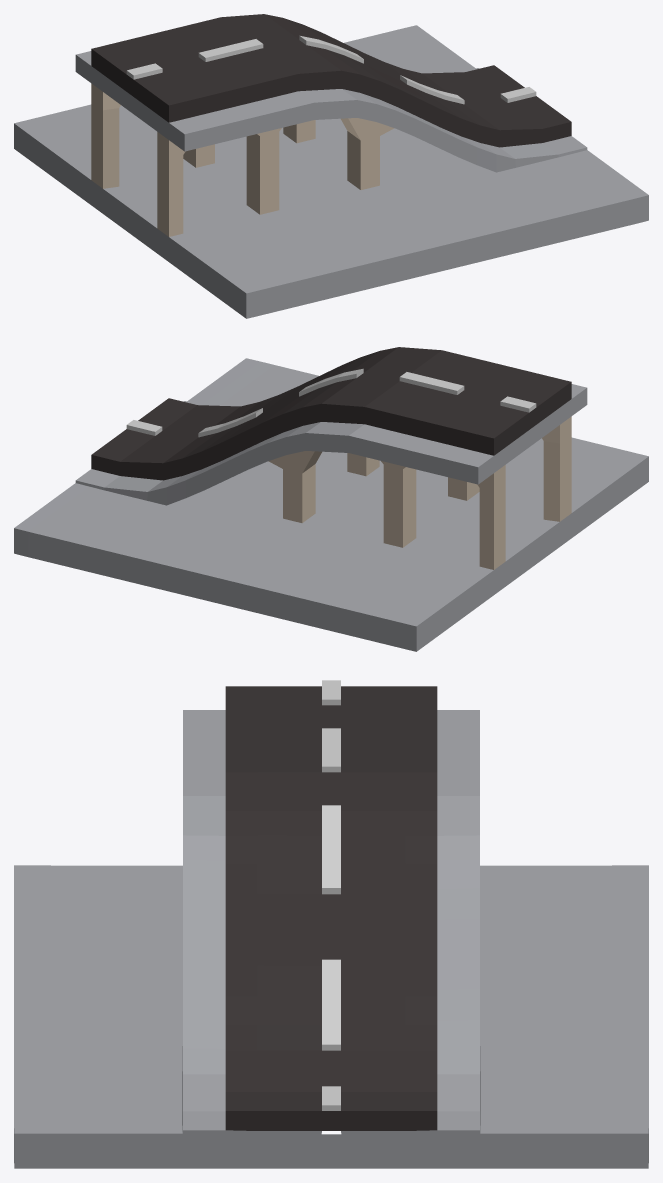
File: Street_Bridge_Ramp.glb
The picture shows the model from 3 angles, top to bottom: view 1: azimuth 30°, elevation 25°; view 2: azimuth 150°, elevation 25°; view 3: azimuth 270°, elevation 25°; orthographic projection. The views are drawn at different scales.
Visible parts, largest first — view 1: Street_Bridge_Ramp; view 2: Street_Bridge_Ramp; view 3: Street_Bridge_Ramp.
Part boxes in pixels (box(x1,y1,x2,y2)): Street_Bridge_Ramp: box(14, 14, 648, 318); Street_Bridge_Ramp: box(14, 347, 648, 651); Street_Bridge_Ramp: box(14, 680, 648, 1168).
Size of the model in its own units: 2 by 0.7638 by 2.
